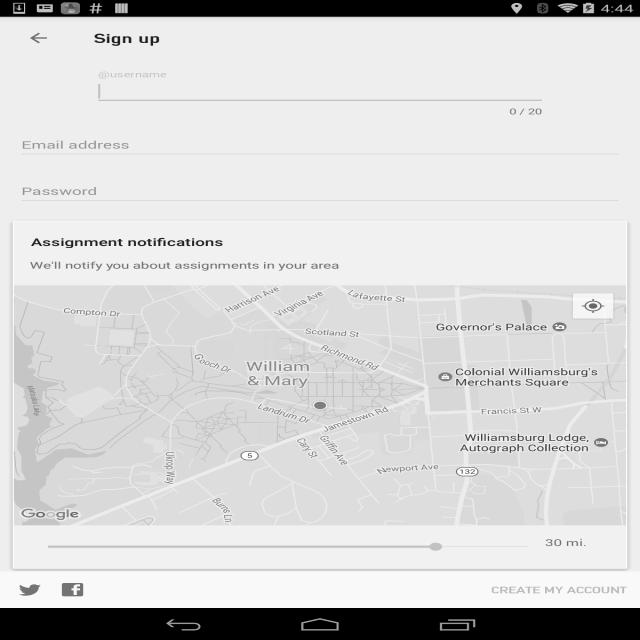Button: (478, 571, 640, 608)
EditText: (17, 131, 623, 160), (17, 178, 623, 206), (94, 77, 546, 106)
ImageButton: (9, 17, 68, 59), (51, 576, 94, 603), (9, 576, 51, 603)
ImageView: (570, 292, 616, 320), (19, 507, 83, 522)
SeekBar: (31, 536, 545, 557)
TextView: (30, 259, 626, 272), (31, 235, 626, 248), (545, 536, 609, 557), (94, 29, 160, 46), (509, 105, 542, 116)
